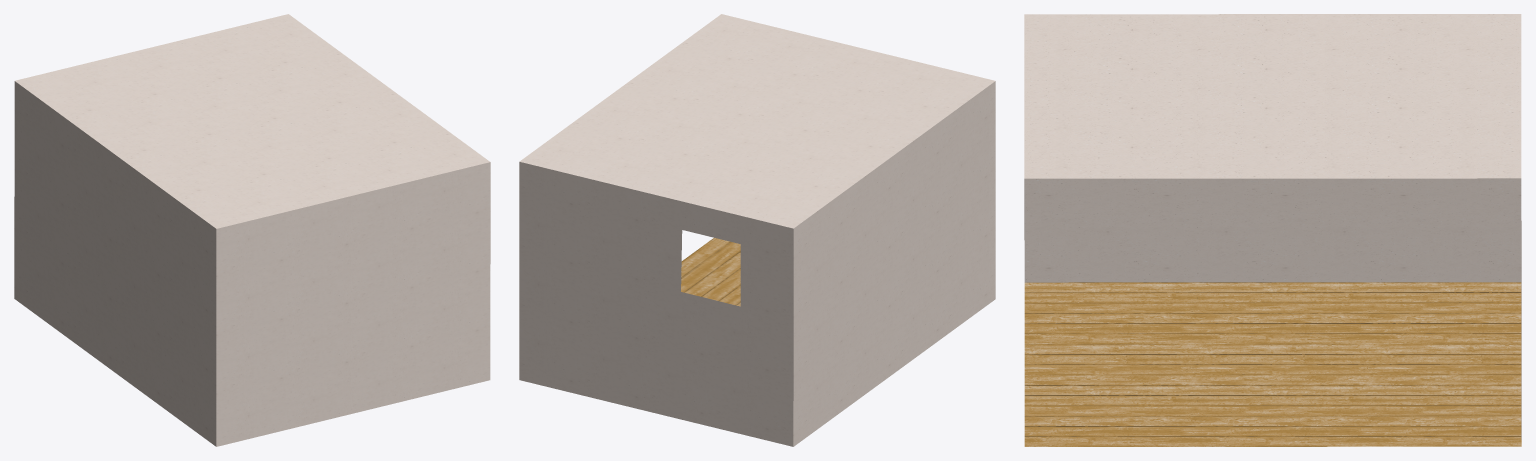
The model's file is room.gltf.
The picture shows the model from 3 angles, left to right: view 1: azimuth 30°, elevation 25°; view 2: azimuth 150°, elevation 25°; view 3: azimuth 270°, elevation 25°; orthographic projection. The views are drawn at different scales.
Parts seen in each view (by area): view 1: ROOM; view 2: ROOM; view 3: ROOM.
Part boxes in pixels (x1,y1,x2,y2): ROOM: (14,14,490,446); ROOM: (519,14,995,446); ROOM: (1024,14,1521,446).
Bounding box in the file's own units: 19.38 × 14.75 × 24.75.
